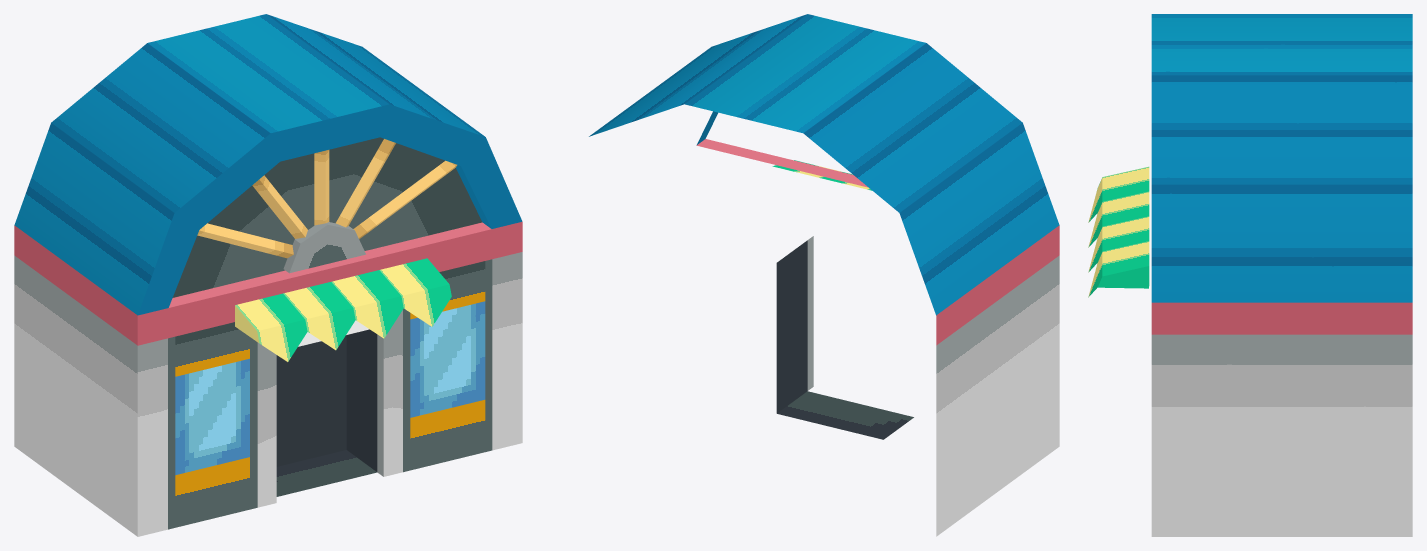
3 renders of one model, left to right at view 1: azimuth 30°, elevation 25°; view 2: azimuth 150°, elevation 25°; view 3: azimuth 270°, elevation 25°, orthographic. The views are drawn at different scales.
Size of the model in its own units: 4.5 by 4.15 by 3.11.
Materials: 4 (3 with a texture image).
